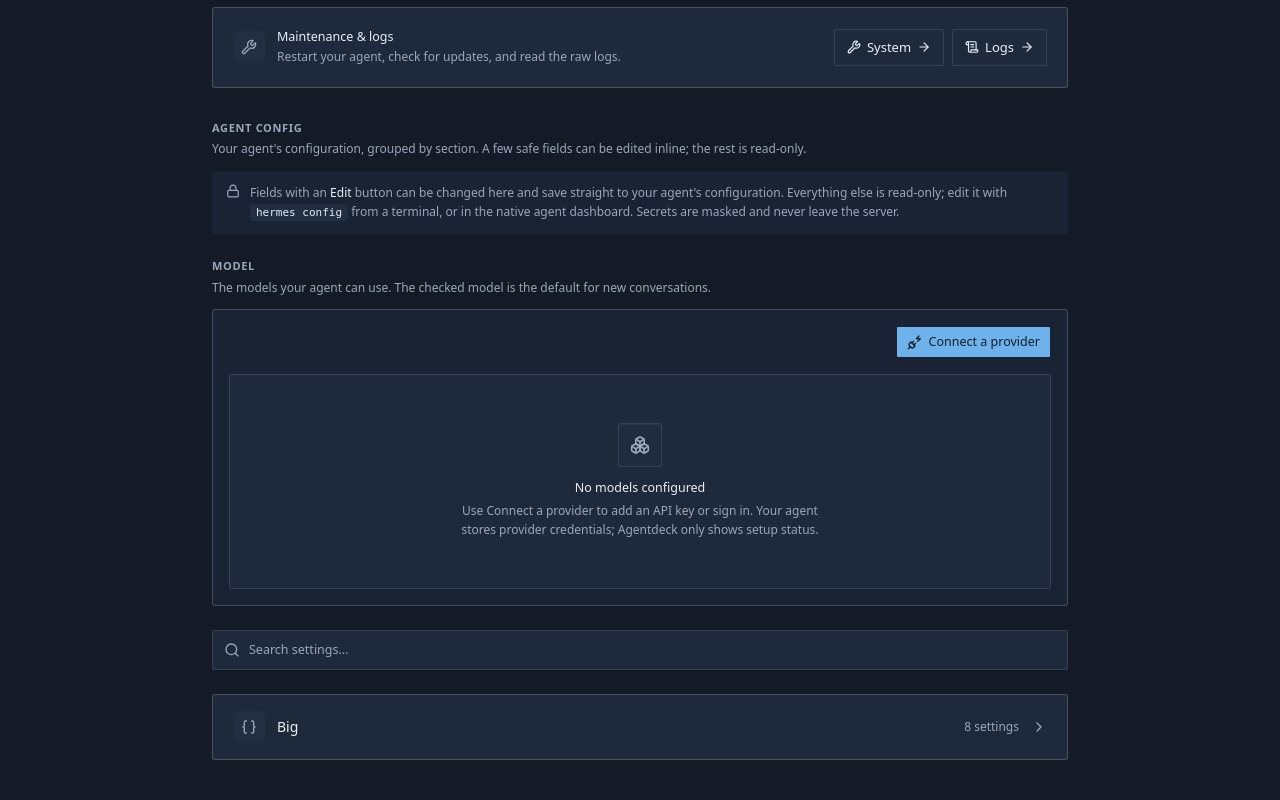
SettingsPage › auto-expands a matched (normally-collapsed) section while searching
(page scrolled)
Expected: the heading "Big" is shown, [277,717,298,737]
Expected: the text "value-3" is not shown
// …but a search reveals the matching field without a manual expand.
In the search field labelled "Search settings…": (640, 650) [212,630,1068,670], type "field_3"
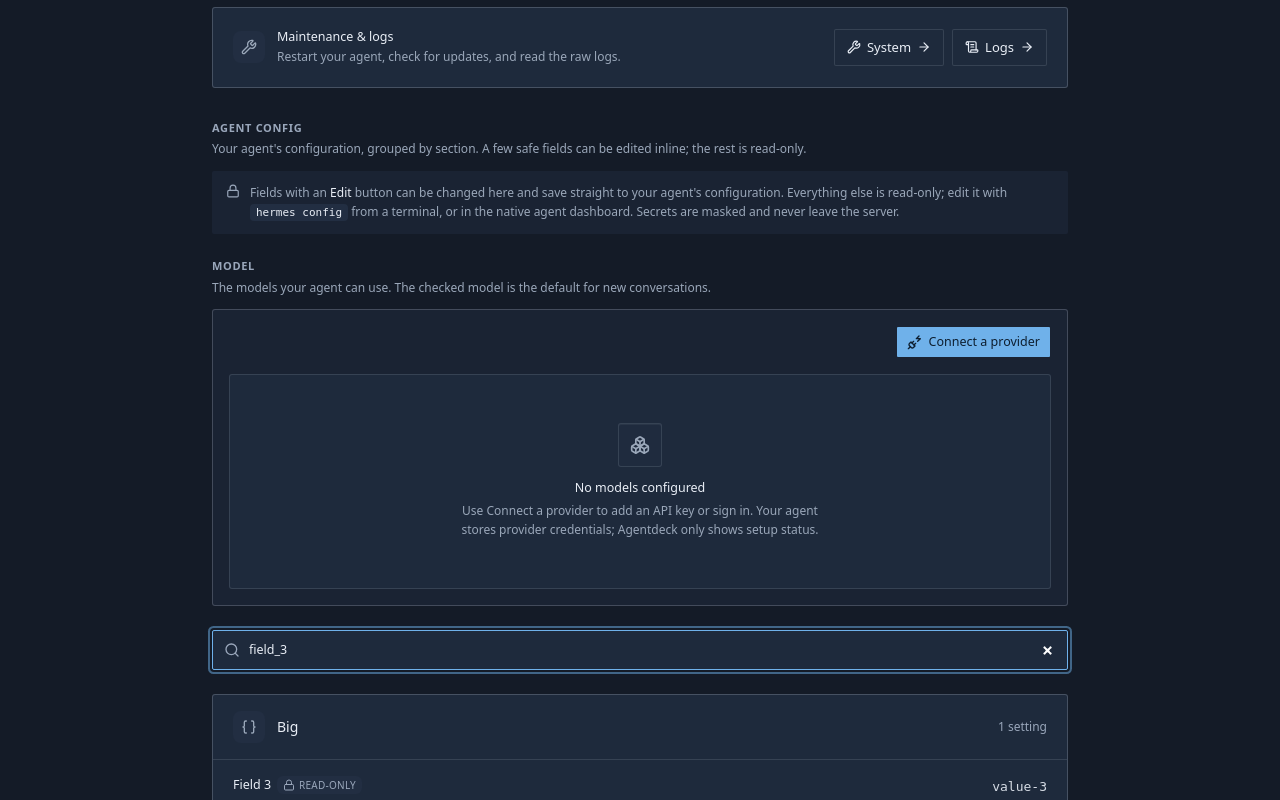
Expected: the text "value-3" is shown, [992,776,1047,797]
